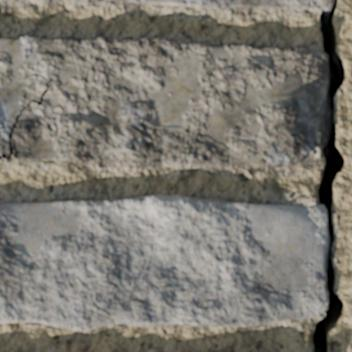brick: (0, 195, 327, 330), (0, 36, 327, 168), (113, 0, 331, 9)
crack: (309, 0, 349, 351), (0, 75, 53, 159)
